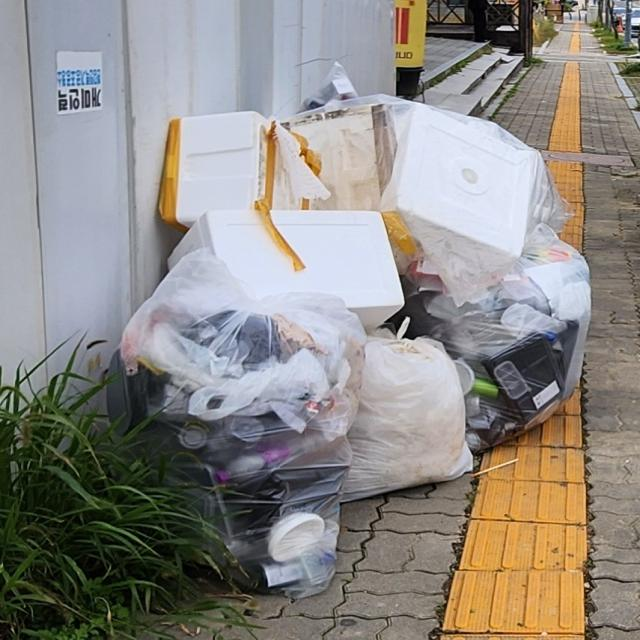General Waste: (131, 98, 600, 602)
